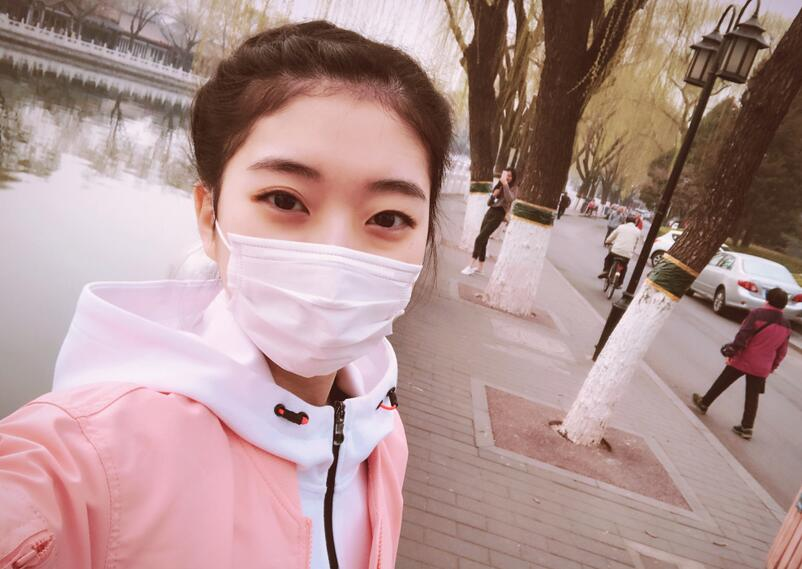face_mask: (216, 89, 428, 376)
